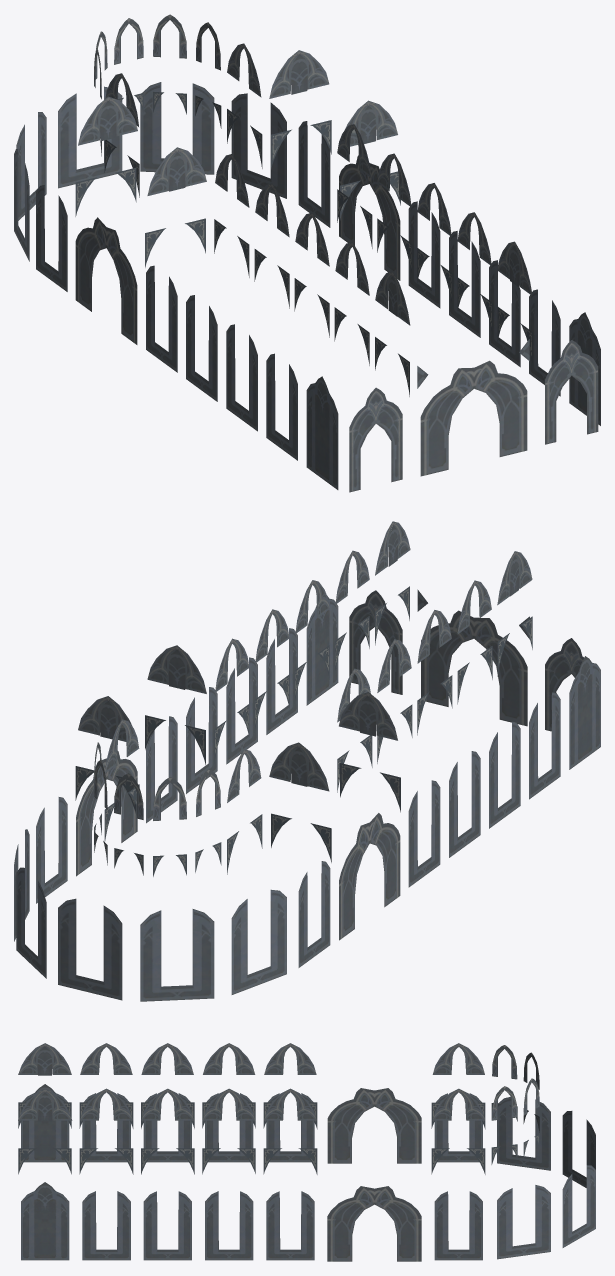
File: Indoor_MdBuild_Church01_1281_0.fbx
The picture shows the model from 3 angles, top to bottom: view 1: azimuth 30°, elevation 25°; view 2: azimuth 150°, elevation 25°; view 3: azimuth 270°, elevation 25°; orthographic projection. The views are drawn at different scales.
Parts seen in each view (by area): view 1: Indoor_MdBuild_Church01_1281_0; view 2: Indoor_MdBuild_Church01_1281_0; view 3: Indoor_MdBuild_Church01_1281_0.
Boxes of the visible parts, <box> form: Indoor_MdBuild_Church01_1281_0: <box>14,14,600,492</box>; Indoor_MdBuild_Church01_1281_0: <box>14,521,600,1001</box>; Indoor_MdBuild_Church01_1281_0: <box>18,1043,595,1261</box>.
Size of the model in its own units: 30.28 by 21.22 by 76.59.
